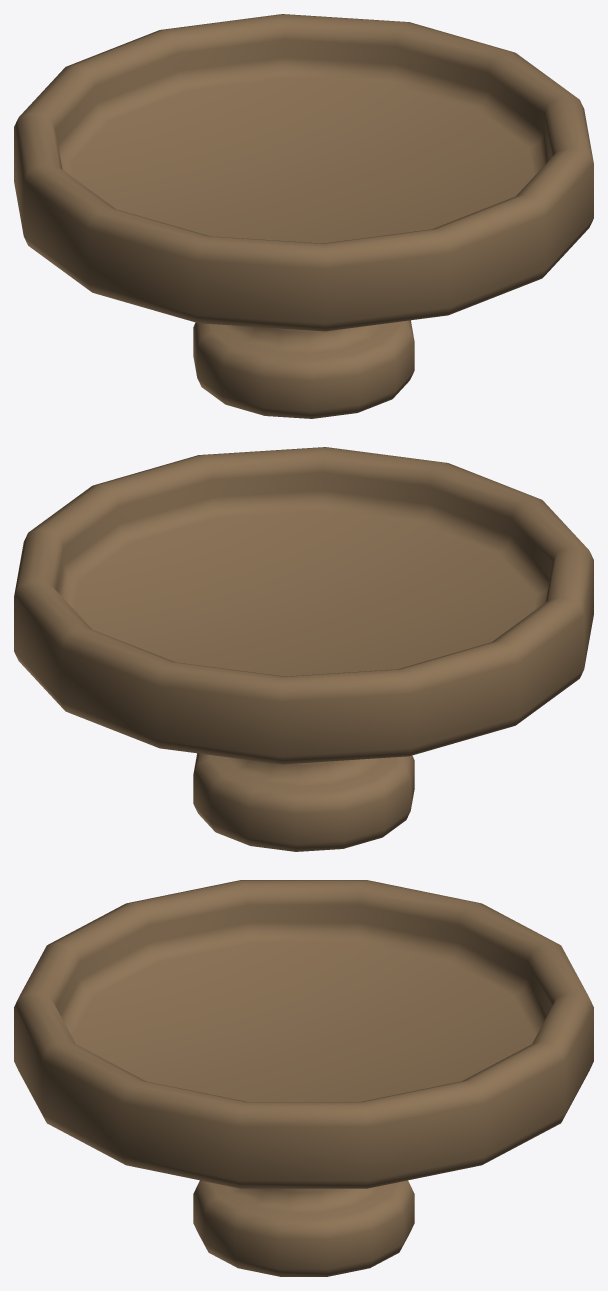
Rendered from Prop_CakeStand_01.glb.
3 views of the same model, one above another, from view 1: azimuth 30°, elevation 25°; view 2: azimuth 150°, elevation 25°; view 3: azimuth 270°, elevation 25° (orthographic).
Parts seen in each view (by area): view 1: SM_Prop_CakeStand_01; view 2: SM_Prop_CakeStand_01; view 3: SM_Prop_CakeStand_01.
Part boxes in pixels (bbox=[...]): SM_Prop_CakeStand_01: bbox=[14, 14, 593, 418]; SM_Prop_CakeStand_01: bbox=[14, 447, 593, 851]; SM_Prop_CakeStand_01: bbox=[14, 880, 593, 1276].
Size of the model in its own units: 0.7463 by 0.3547 by 0.7655.
1 material, 1 textured.
